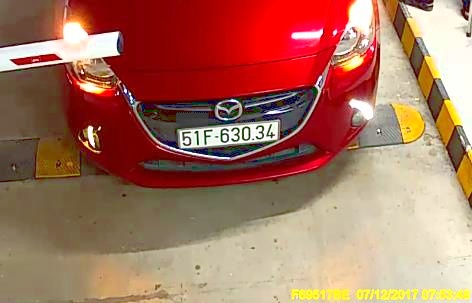plate: (176, 122, 283, 149)
